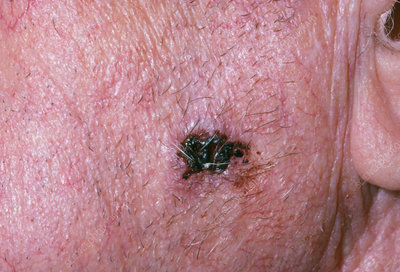Basa Cell Carcinoma: (154, 109, 270, 201)
